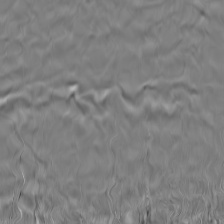cavities: (11, 39, 200, 193)
